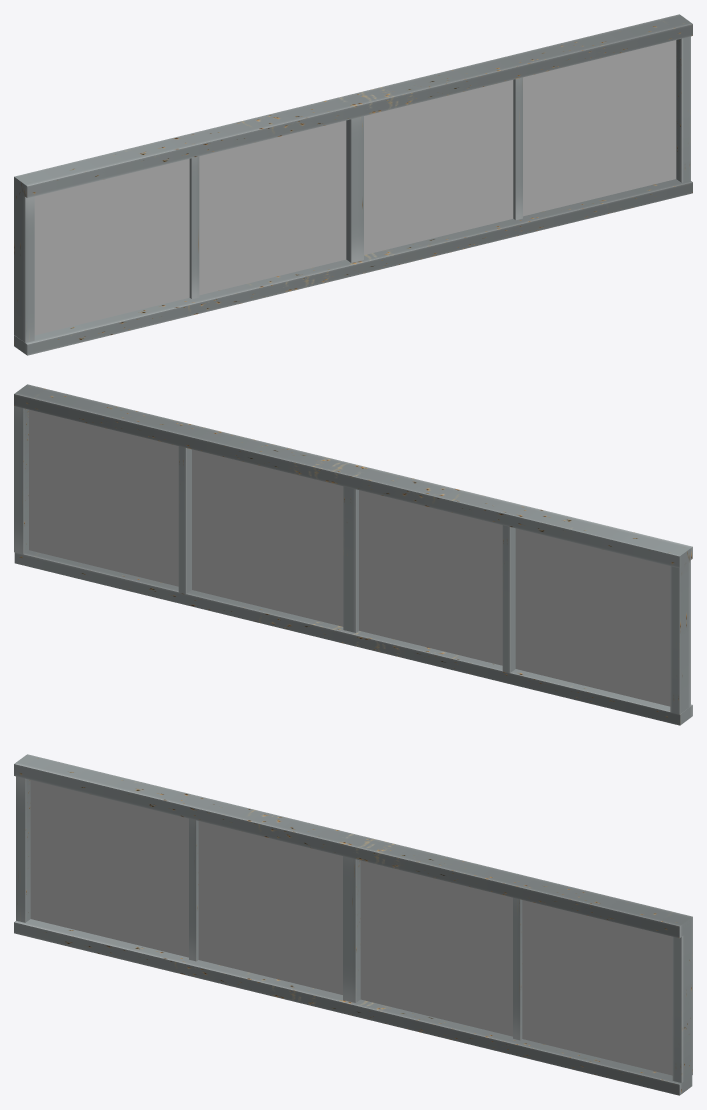
Rendered from bil_window_a2_03.fbx.
The picture shows the model from 3 angles, top to bottom: view 1: azimuth 30°, elevation 25°; view 2: azimuth 150°, elevation 25°; view 3: azimuth 330°, elevation 25°; orthographic projection.
Visible parts, largest first — view 1: bil_window_a2_03; view 2: bil_window_a2_03; view 3: bil_window_a2_03.
Part boxes in pixels (x1,y1,x2,y2): bil_window_a2_03: (14,14,692,355); bil_window_a2_03: (14,384,692,725); bil_window_a2_03: (14,754,692,1095).
Bounding box in the file's own units: 360 × 87.52 × 12.5.
